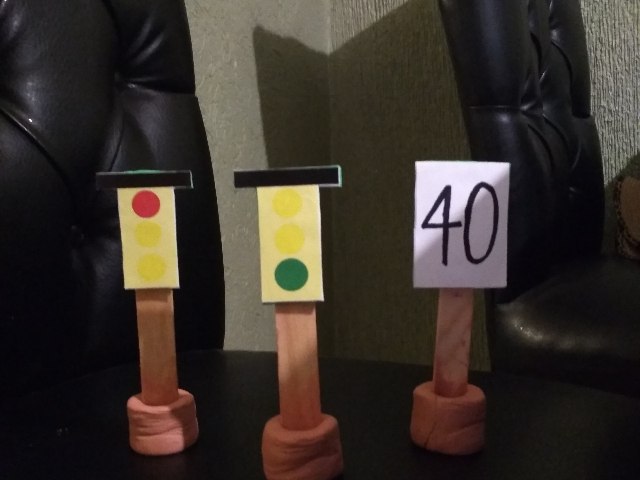Green: (231, 162, 343, 308)
Limit 40: (410, 155, 510, 291)
Red: (91, 167, 198, 295)
